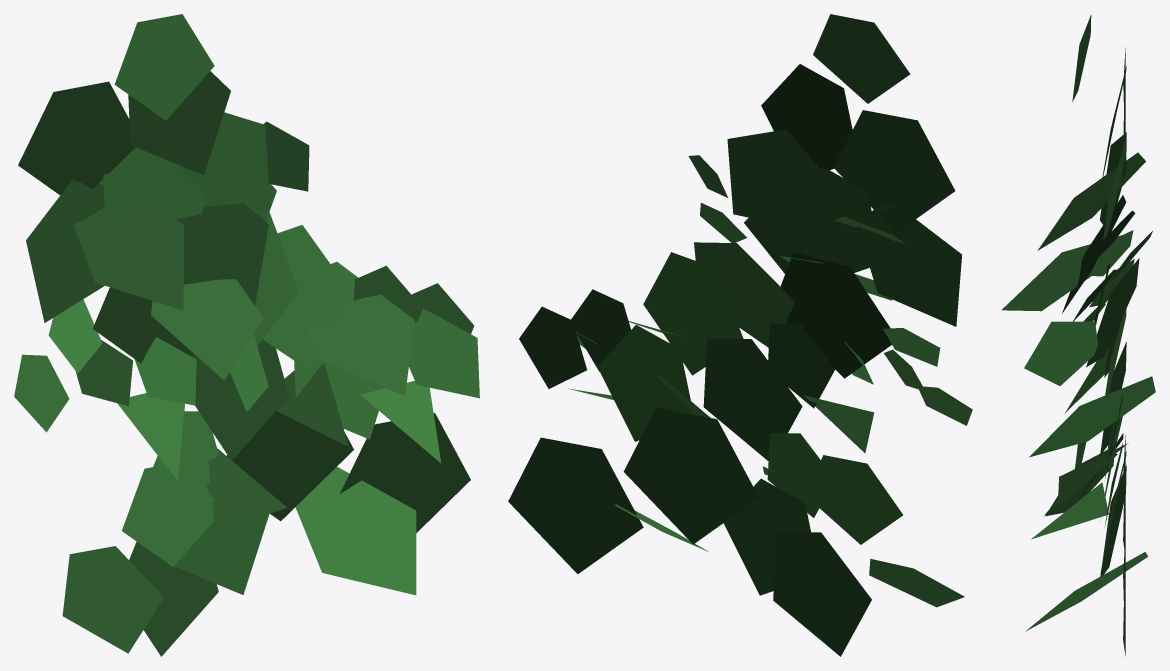
File: Plant_Ivy01.fbx
3 views of the same model, side by side, from view 1: azimuth 30°, elevation 25°; view 2: azimuth 150°, elevation 25°; view 3: azimuth 270°, elevation 25° (orthographic). The views are drawn at different scales.
Visible parts, largest first — view 1: Plant_Ivy01; view 2: Plant_Ivy01; view 3: Plant_Ivy01.
Part boxes in pixels (bbox=[...]): Plant_Ivy01: bbox=[14, 14, 479, 656]; Plant_Ivy01: bbox=[508, 14, 972, 656]; Plant_Ivy01: bbox=[1001, 14, 1155, 656].
Bounding box in the file's own units: 2.33 × 3.09 × 0.7832.
